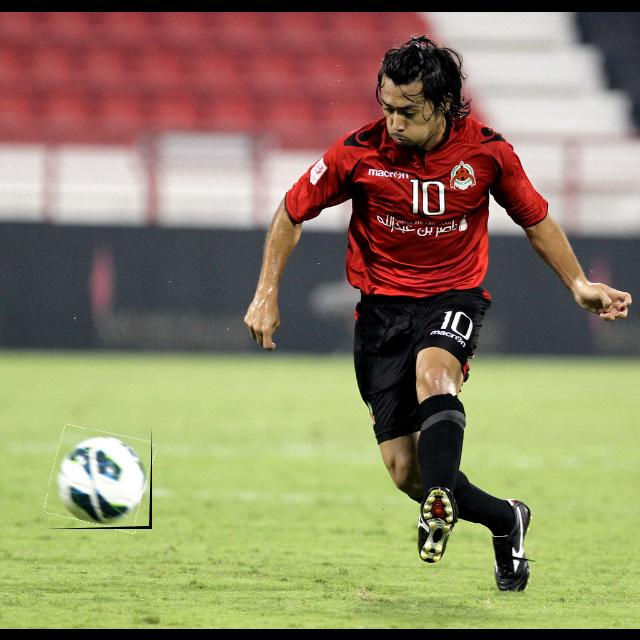Football: (48, 429, 152, 529)
